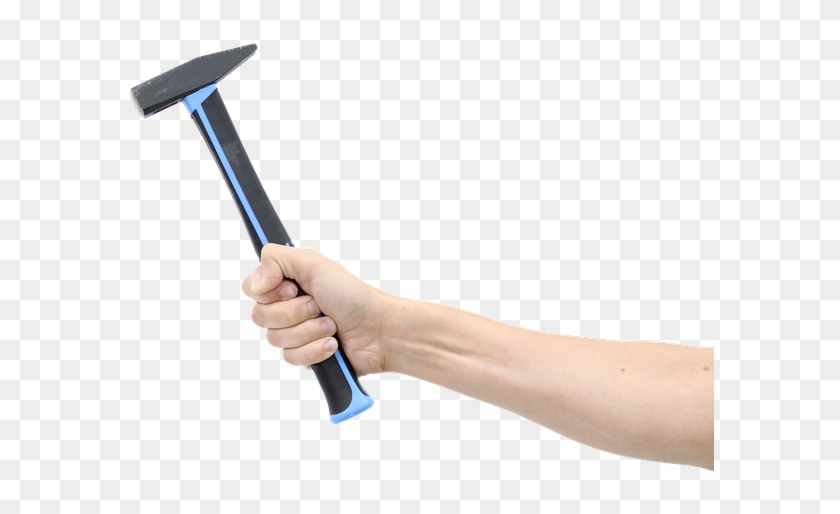hammer: (126, 43, 376, 422)
